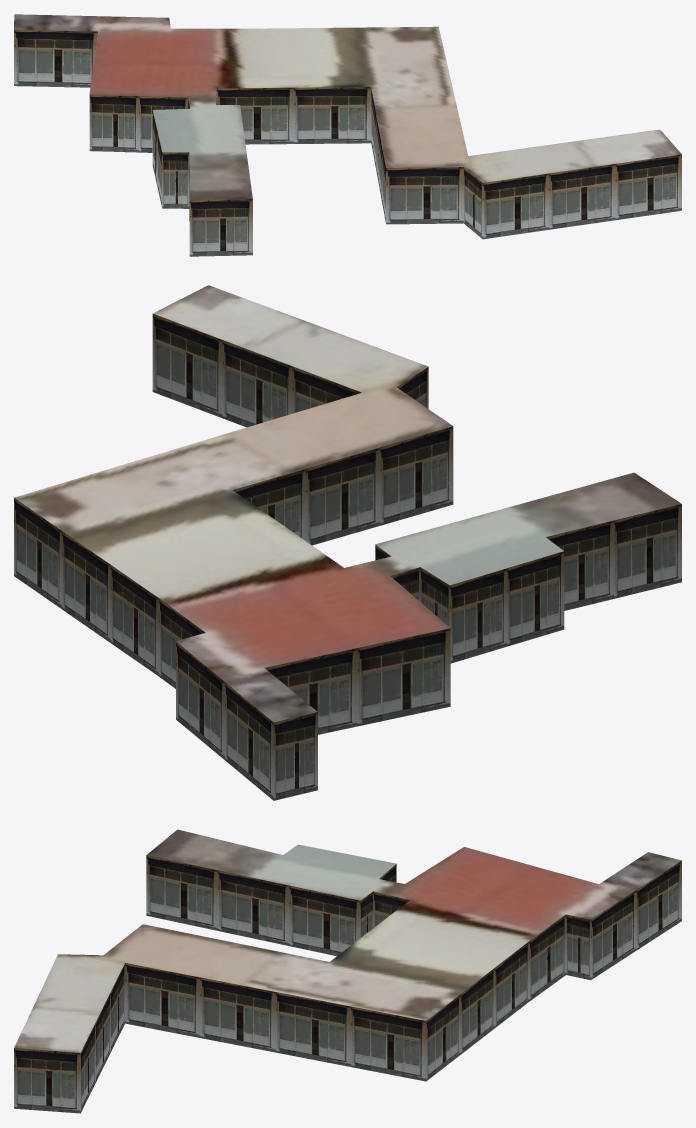
File: T_1T0S34NVV3.dae
The picture shows the model from 3 angles, top to bottom: view 1: azimuth 30°, elevation 25°; view 2: azimuth 150°, elevation 25°; view 3: azimuth 270°, elevation 25°; orthographic projection. The views are drawn at different scales.
Visible parts, largest first — view 1: SketchUp (×11); view 2: SketchUp (×11); view 3: SketchUp (×11).
Boxes of the visible parts, bbox=[...] form: SketchUp (×11): bbox=[14, 14, 681, 256]; SketchUp (×11): bbox=[14, 285, 681, 800]; SketchUp (×11): bbox=[14, 829, 681, 1113].
Size of the model in its own units: 32.62 by 41.21 by 4.13.
Materials: 2 (2 with a texture image).
